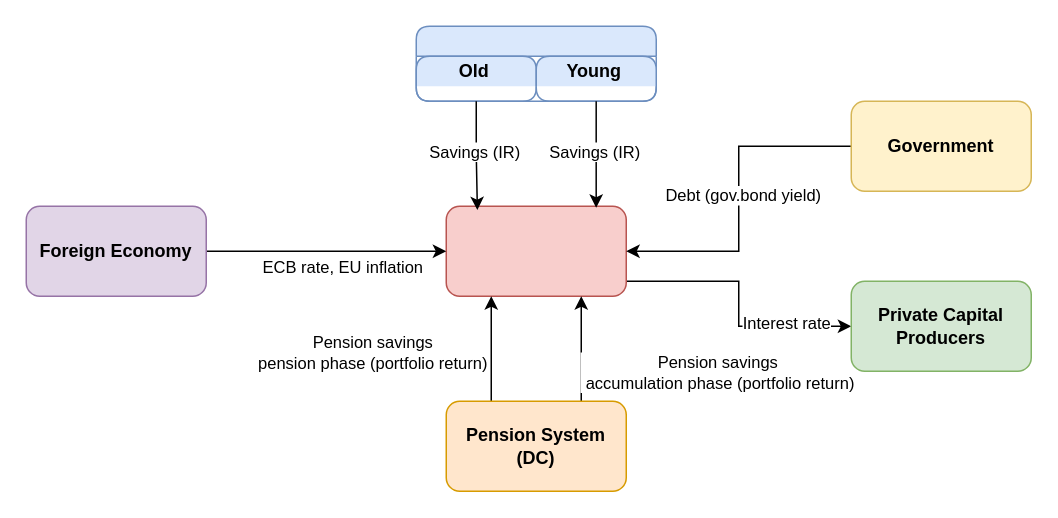
Some shapes in this 1058 by 518 pixel diagram are drawn without their labels. Each missing label, with the box of its shape:
Financial Markets, Banks: (445, 205, 626, 296)
Ricardian Households: (415, 25, 656, 101)
